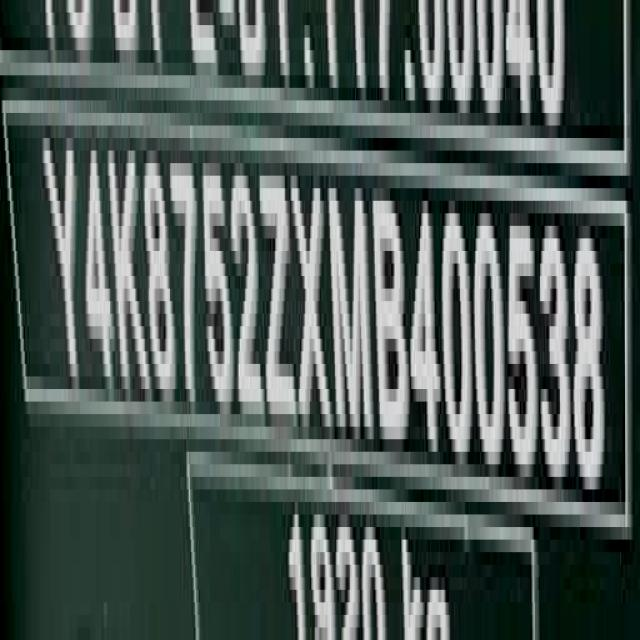0: (474, 182, 507, 469), (441, 209, 474, 451)
2: (229, 153, 264, 437)
3: (537, 209, 572, 502)
4: (407, 167, 443, 460), (82, 148, 116, 414)
5: (200, 130, 234, 418), (507, 191, 541, 478)
7: (168, 158, 200, 414)
8: (143, 144, 178, 409), (572, 223, 604, 497)
B: (372, 177, 410, 456)
K: (109, 125, 149, 418)
M: (328, 172, 376, 441)
X: (292, 167, 332, 437)
Y: (44, 112, 82, 414)
Z: (259, 149, 297, 451)
